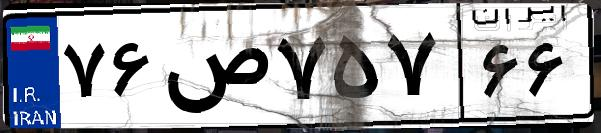5: (330, 28, 385, 110)
6: (475, 38, 525, 113), (525, 38, 570, 115), (110, 28, 158, 98)
7: (270, 28, 330, 110), (385, 28, 445, 110), (57, 26, 110, 100)
ص: (158, 20, 270, 120)
